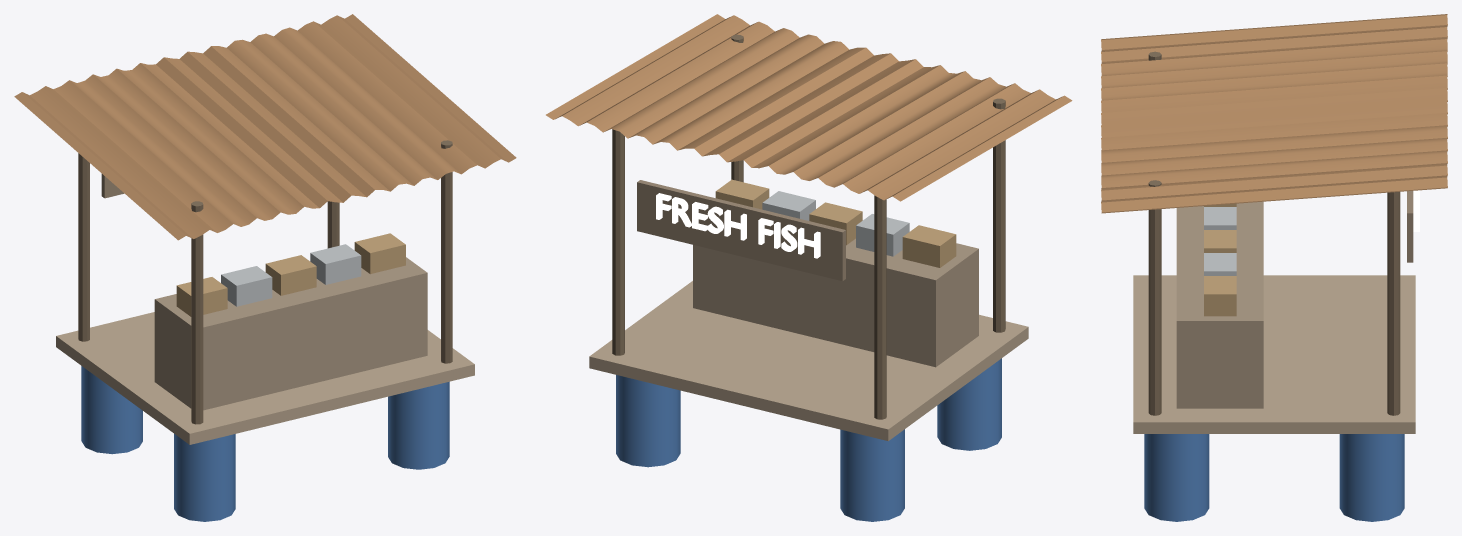
File: market_stall_float.glb
3 renders of one model, left to right at view 1: azimuth 30°, elevation 25°; view 2: azimuth 150°, elevation 25°; view 3: azimuth 270°, elevation 25°, orthographic. The views are drawn at different scales.
Visible parts, largest first — view 1: MK_market_stall_float; view 2: MK_market_stall_float; view 3: MK_market_stall_float.
Part boxes in pixels (x1,y1,x2,y2): MK_market_stall_float: (14, 14, 516, 521); MK_market_stall_float: (546, 14, 1072, 521); MK_market_stall_float: (1101, 14, 1447, 521).
Bounding box in the file's own units: 3.8 × 3.61 × 3.2.
